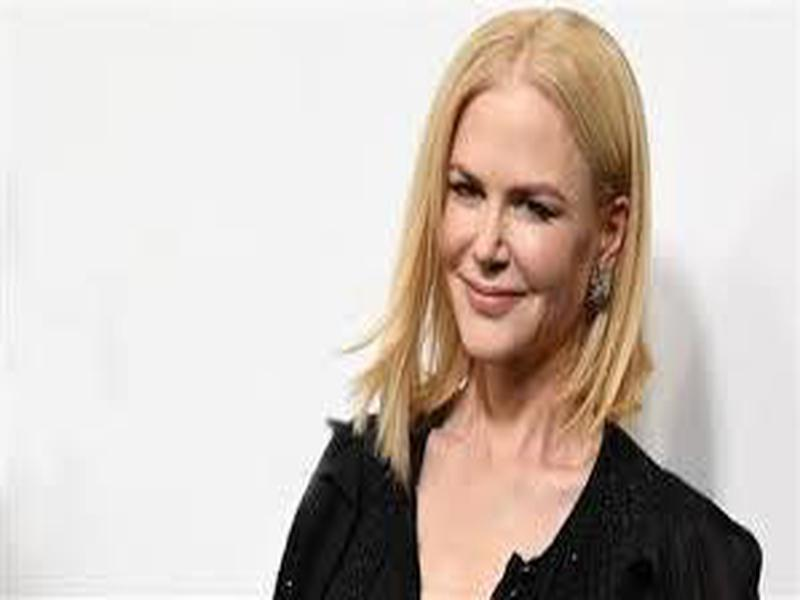without_mask: (444, 119, 587, 367)
